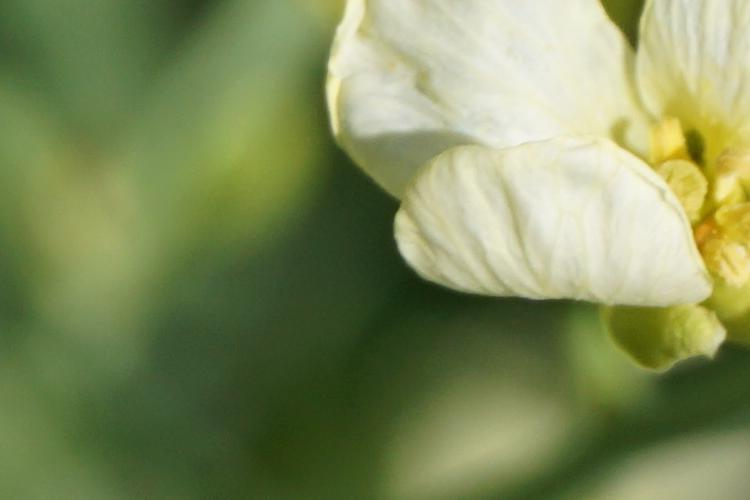white: (334, 7, 745, 362)
